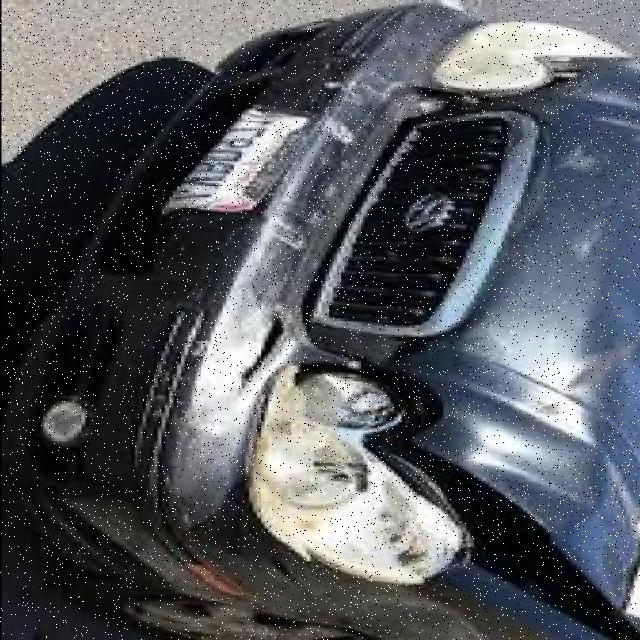damage: (226, 303, 638, 625)
